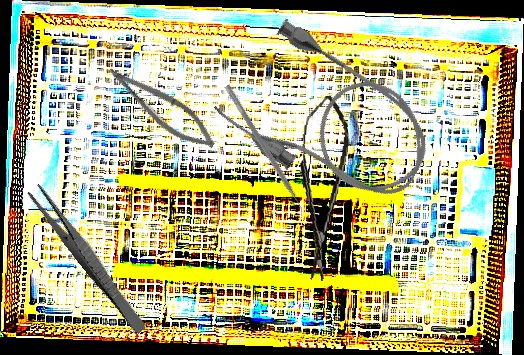Cannula: (206, 11, 450, 229)
Dressing Forceps: (25, 182, 152, 336)
Micro Scissor: (98, 59, 224, 158), (288, 94, 354, 282)
Spatula Surgical: (219, 84, 309, 218)
